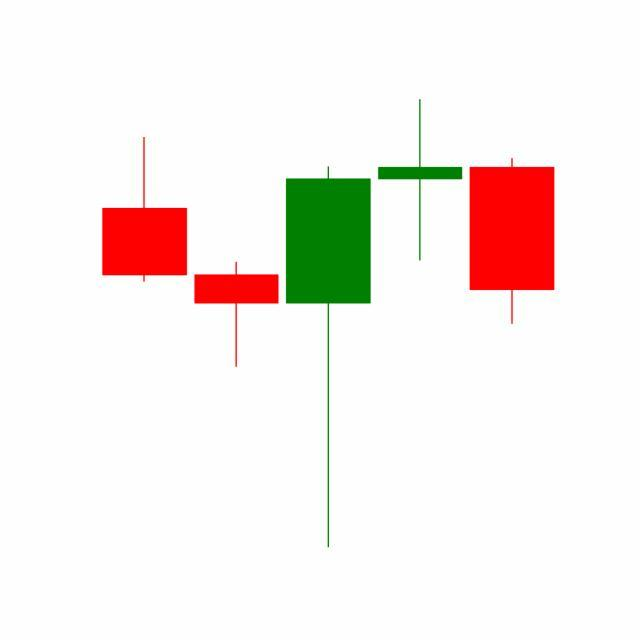Spinning Top: (374, 98, 468, 264)
